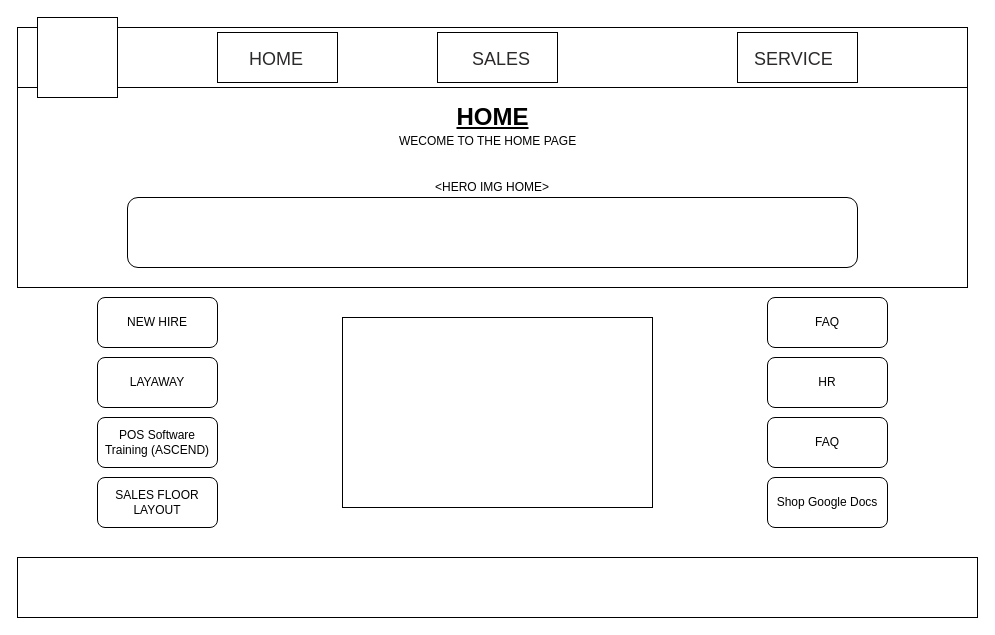
Image size: 995x635. Some labels were removed from this diagram. Here are the shapes that lost their labels. From the top down, the centre of each, then its label:
the point at 77,57: LOGO
the point at 492,232: INTRO TEXT
the point at 497,412: SHOP MAP
the point at 497,587: NAV Footer
